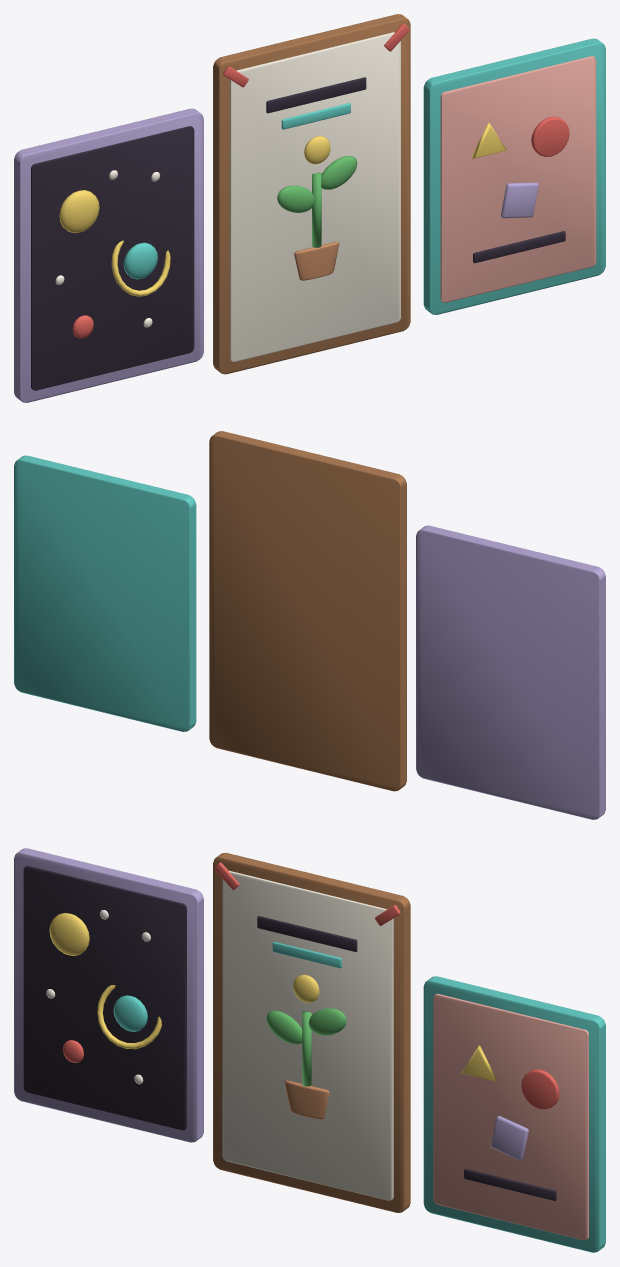
The model's file is wall-posters.glb.
The picture shows the model from 3 angles, top to bottom: view 1: azimuth 30°, elevation 25°; view 2: azimuth 150°, elevation 25°; view 3: azimuth 330°, elevation 25°; orthographic projection.
Visible parts, largest first — view 1: DecWallPosters_CreamBacking, DecWallPosters_SlateBacking, DecWallPosters_PeachBacking, DecWallPosters_WoodFrame, DecWallPosters_TurquoiseFrame, DecWallPosters_LavenderFrame, DecWallPosters_ButterMotifs, DecWallPosters_LeafMotifs, DecWallPosters_CoralMotifs, DecWallPosters_TerracottaPot; view 2: DecWallPosters_WoodFrame, DecWallPosters_LavenderFrame, DecWallPosters_TurquoiseFrame; view 3: DecWallPosters_CreamBacking, DecWallPosters_SlateBacking, DecWallPosters_PeachBacking, DecWallPosters_WoodFrame, DecWallPosters_TurquoiseFrame, DecWallPosters_LavenderFrame, DecWallPosters_ButterMotifs, DecWallPosters_LeafMotifs, DecWallPosters_CoralMotifs, DecWallPosters_TerracottaPot.
Boxes of the visible parts, x1=… form: DecWallPosters_CreamBacking: x1=55, y1=32, x2=400, y2=361; DecWallPosters_SlateBacking: x1=31, y1=77, x2=565, y2=390; DecWallPosters_PeachBacking: x1=440, y1=56, x2=596, y2=302; DecWallPosters_WoodFrame: x1=213, y1=14, x2=410, y2=374; DecWallPosters_TurquoiseFrame: x1=123, y1=38, x2=605, y2=314; DecWallPosters_LavenderFrame: x1=14, y1=108, x2=538, y2=402; DecWallPosters_ButterMotifs: x1=59, y1=122, x2=506, y2=296; DecWallPosters_LeafMotifs: x1=277, y1=156, x2=357, y2=247; DecWallPosters_CoralMotifs: x1=72, y1=23, x2=569, y2=338; DecWallPosters_TerracottaPot: x1=294, y1=241, x2=339, y2=280; DecWallPosters_WoodFrame: x1=209, y1=431, x2=406, y2=791; DecWallPosters_LavenderFrame: x1=416, y1=525, x2=605, y2=819; DecWallPosters_TurquoiseFrame: x1=14, y1=455, x2=196, y2=731; DecWallPosters_CreamBacking: x1=46, y1=870, x2=393, y2=1200; DecWallPosters_SlateBacking: x1=23, y1=865, x2=556, y2=1200; DecWallPosters_PeachBacking: x1=433, y1=993, x2=588, y2=1240; DecWallPosters_WoodFrame: x1=213, y1=852, x2=410, y2=1212; DecWallPosters_TurquoiseFrame: x1=113, y1=941, x2=605, y2=1252; DecWallPosters_LavenderFrame: x1=14, y1=848, x2=528, y2=1160; DecWallPosters_ButterMotifs: x1=49, y1=913, x2=496, y2=1081; DecWallPosters_LeafMotifs: x1=266, y1=1008, x2=346, y2=1086; DecWallPosters_CoralMotifs: x1=63, y1=862, x2=559, y2=1109; DecWallPosters_TerracottaPot: x1=284, y1=1080, x2=329, y2=1119.
Size of the model in its own units: 1.53 by 0.78 by 0.0673.
